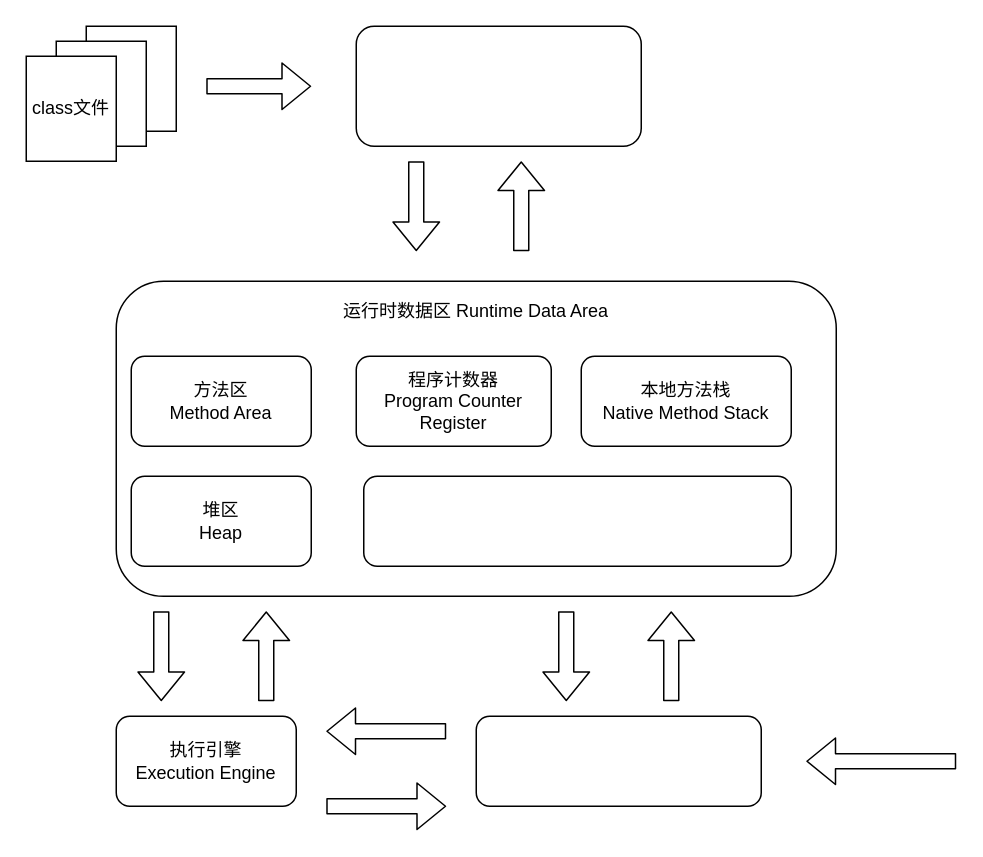
Image size: 983x857. Some labels were removed from this diagram. Each missing label, with the centre of its shape:
本地方法接口 Native Method Interface: (618,760)
类加载子系统 Class Loader: (498,85)
虚拟机栈 Java Virtual Machine Stack: (576,520)
